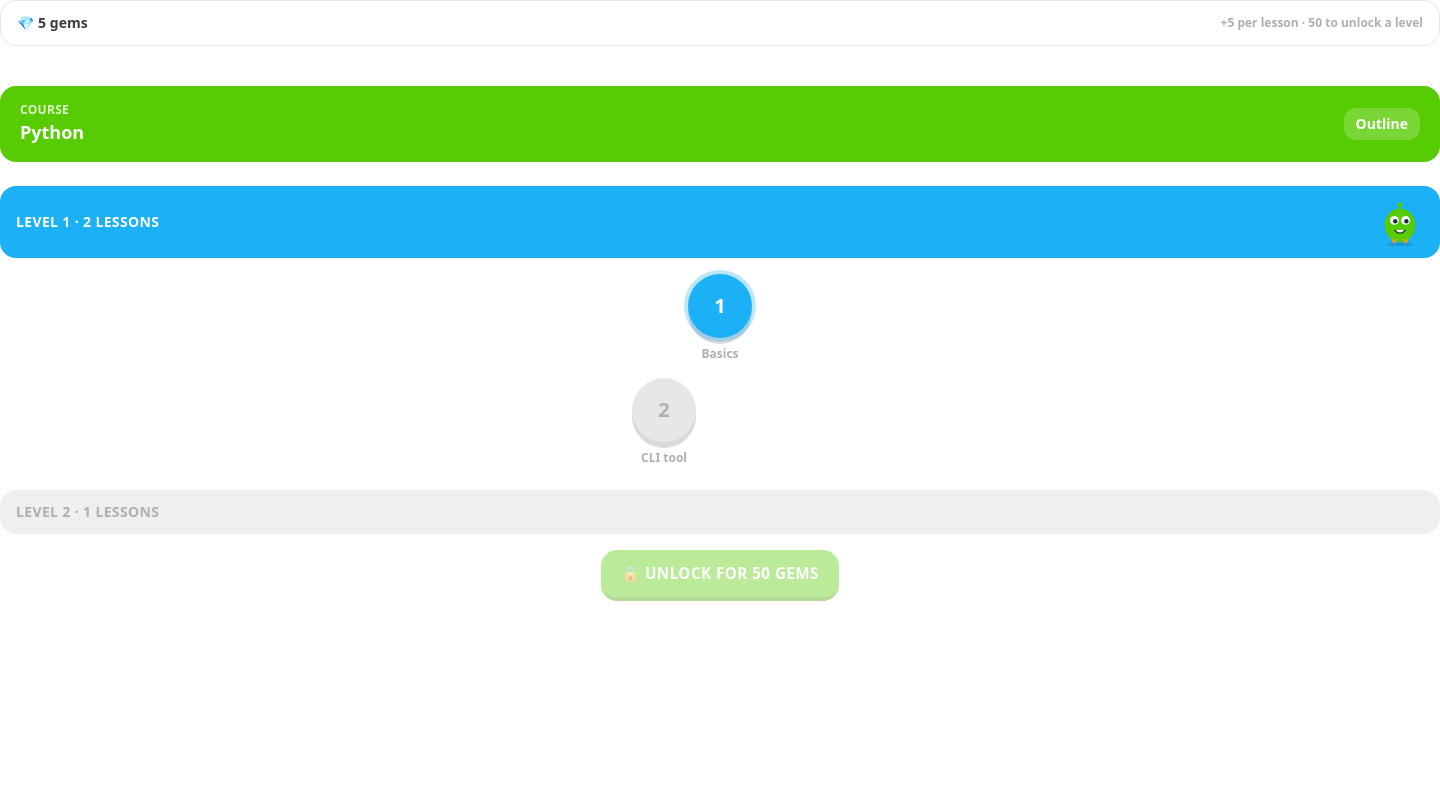
Test: LearnPage › shows gems, locks level 2 and completes the next lesson on the path
expect the text "💎 5 gems" is shown: met, box [17,13,88,33]
expect the button "🔒 Unlock for 50 gems" is disabled: met, box [601,550,839,601]
Click the button named "Basics". click: (720, 306)
box: [688,274,752,338]
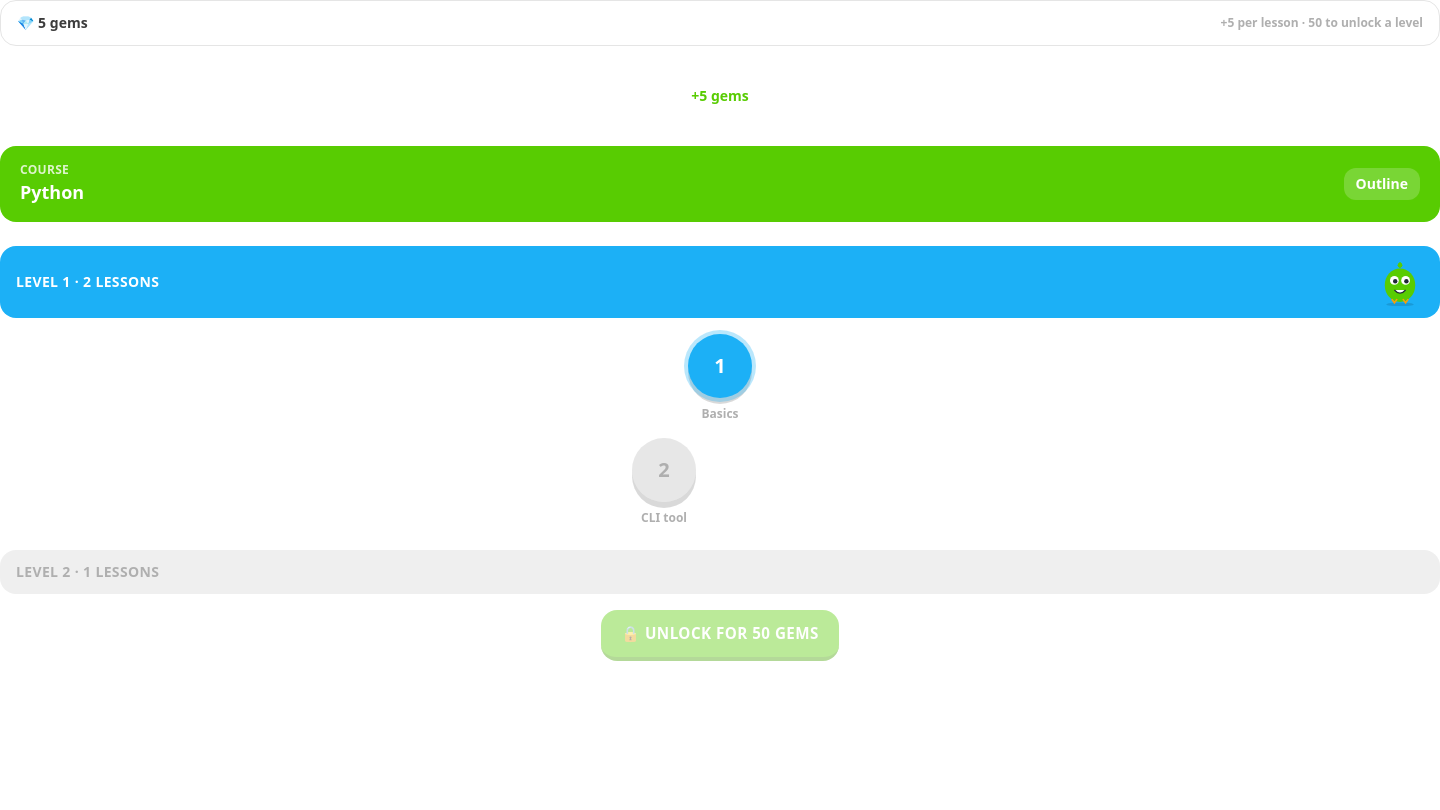
expect the text "+5 gems" is shown: met, box [691,86,749,106]
